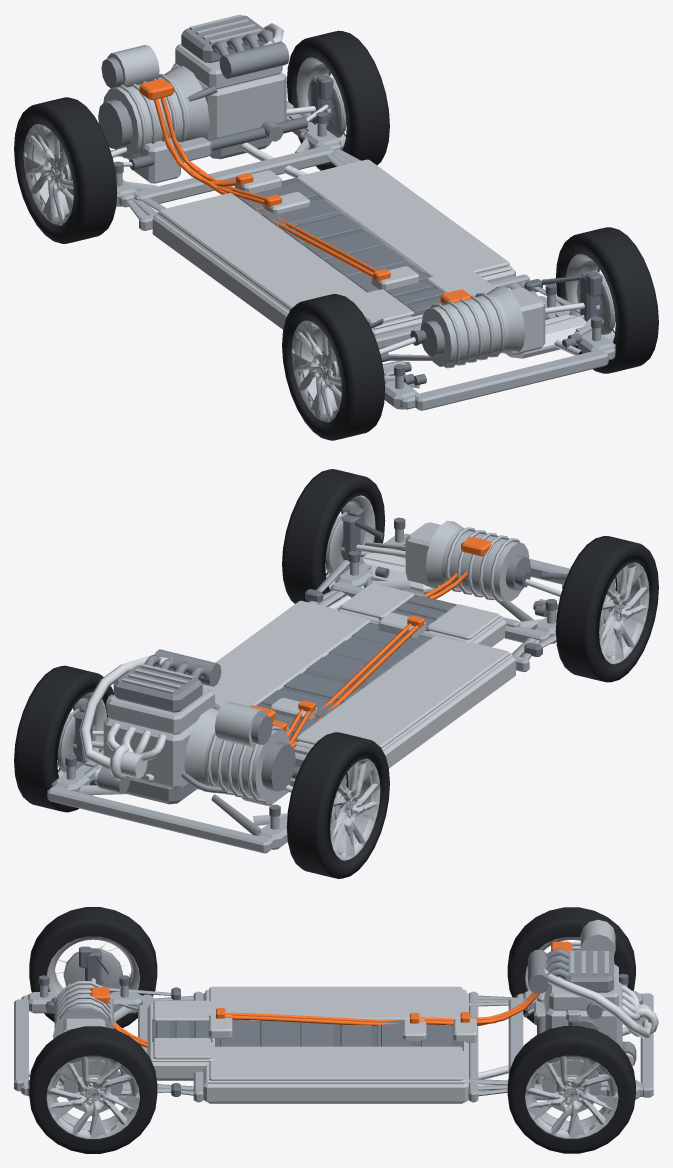
Rendered from haval-powertrain-lite.glb.
The picture shows the model from 3 angles, top to bottom: view 1: azimuth 30°, elevation 25°; view 2: azimuth 150°, elevation 25°; view 3: azimuth 270°, elevation 25°; orthographic projection. The views are drawn at different scales.
Visible parts, largest first — view 1: PHEV34_Lid, Wheel_RL, Wheel_FL, ICE, Motor_P2, Wheel_RR, Motor_P4, Wheel_FR, Subframe_Rear, Subframe_Front, PHEV34_Case, HEV_Lid (+18 smaller); view 2: PHEV34_Lid, ICE, Wheel_RL, Wheel_FL, Motor_P2, Motor_P4, Wheel_RR, Wheel_FR, Subframe_Front, HEV_Lid, PHEV34_Case, Subframe_Rear (+14 smaller); view 3: PHEV34_Lid, Wheel_FR, Wheel_RR, ICE, PHEV34_Case, Wheel_RL, Wheel_FL, HEV_Lid, Subframe_Rear, Motor_P4, Subframe_Front, Susp_RL (+16 smaller).
Part boxes in pixels (left/top/right/bottom): PHEV34_Lid: left=156, top=159, right=512, bottom=311; Wheel_RL: left=282, top=294, right=385, bottom=440; Wheel_FL: left=14, top=97, right=117, bottom=243; ICE: left=171, top=14, right=289, bottom=159; Motor_P2: left=98, top=45, right=209, bottom=183; Wheel_RR: left=556, top=227, right=658, bottom=373; Motor_P4: left=420, top=286, right=545, bottom=368; Wheel_FR: left=286, top=30, right=389, bottom=170; Subframe_Rear: left=379, top=283, right=615, bottom=410; Subframe_Front: left=110, top=101, right=341, bottom=207; PHEV34_Case: left=126, top=149, right=538, bottom=329; HEV_Lid: left=347, top=268, right=495, bottom=329; PHEV34_Lid: left=202, top=600, right=512, bottom=750; ICE: left=79, top=649, right=227, bottom=804; Wheel_RL: left=555, top=536, right=658, bottom=682; Wheel_FL: left=286, top=732, right=389, bottom=878; Motor_P2: left=184, top=701, right=295, bottom=805; Motor_P4: left=405, top=520, right=530, bottom=602; Wheel_RR: left=282, top=469, right=385, bottom=606; Wheel_FR: left=14, top=665, right=113, bottom=812; Subframe_Front: left=47, top=748, right=295, bottom=853; HEV_Lid: left=338, top=583, right=502, bottom=642; PHEV34_Case: left=293, top=590, right=540, bottom=783; Subframe_Rear: left=331, top=517, right=569, bottom=643; PHEV34_Lid: left=205, top=986, right=466, bottom=1083; Wheel_FR: left=507, top=1026, right=635, bottom=1153; Wheel_RR: left=29, top=1026, right=157, bottom=1153; ICE: left=528, top=948, right=658, bottom=1074; PHEV34_Case: left=153, top=991, right=515, bottom=1103; Wheel_RL: left=29, top=907, right=157, bottom=1027; Wheel_FL: left=507, top=907, right=635, bottom=1023; HEV_Lid: left=149, top=1000, right=214, bottom=1061; Subframe_Rear: left=14, top=975, right=153, bottom=1097; Motor_P4: left=53, top=981, right=114, bottom=1038; Subframe_Front: left=508, top=973, right=653, bottom=1100; Susp_RL: left=46, top=946, right=180, bottom=1013.
Size of the model in its own units: 1.83 by 0.9125 by 3.69.
